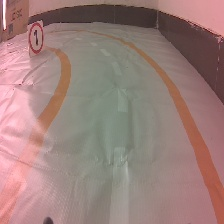limit: (26, 20, 47, 58)
